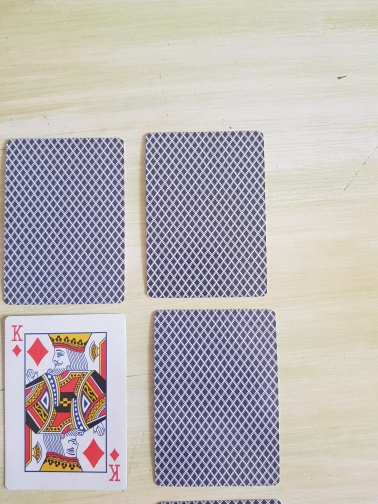king: (3, 313, 128, 491)
